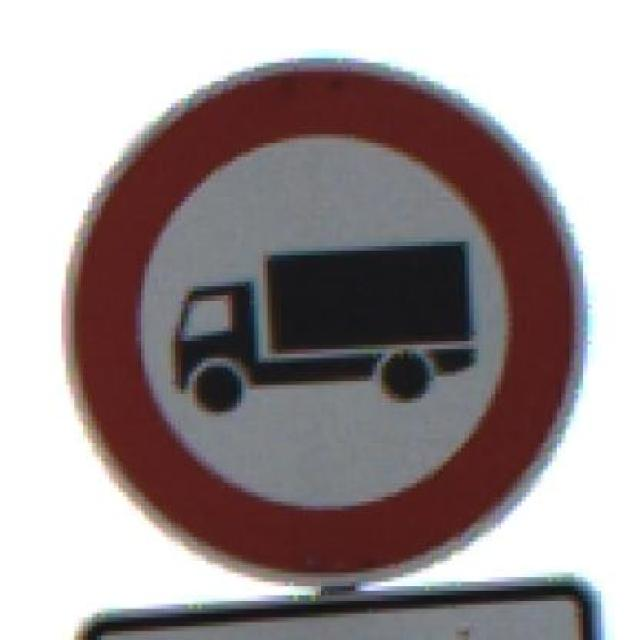Truck traffic is prohibited: (39, 49, 610, 582)
